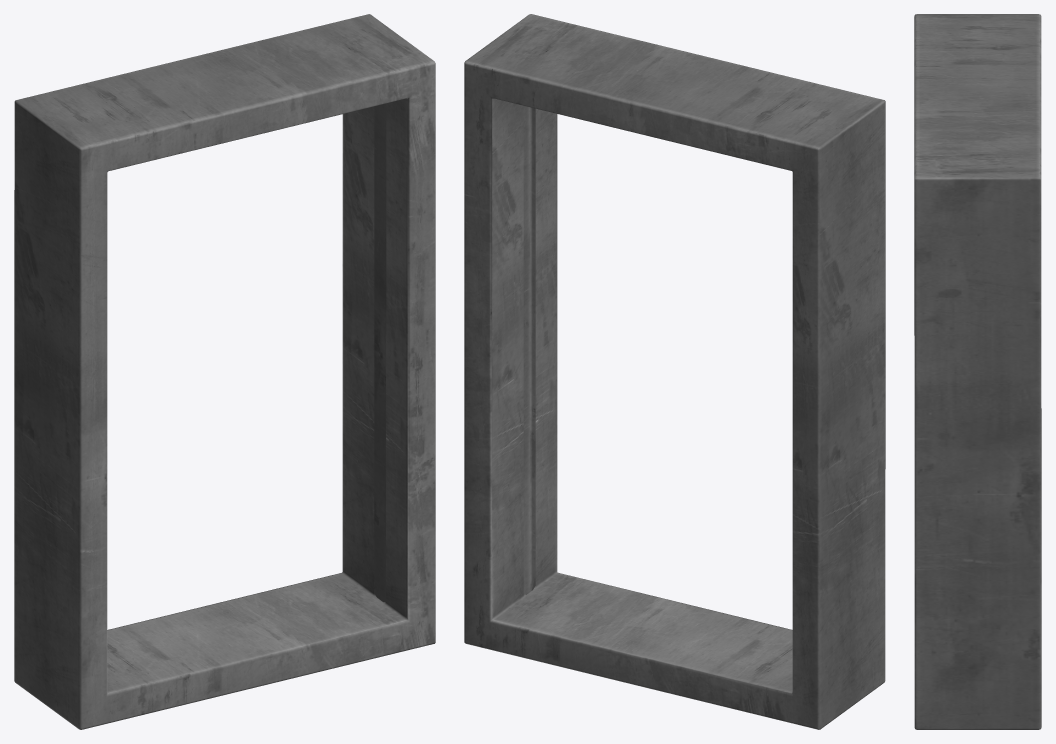
File: ele_01.fbx
The picture shows the model from 3 angles, left to right: view 1: azimuth 30°, elevation 25°; view 2: azimuth 150°, elevation 25°; view 3: azimuth 270°, elevation 25°; orthographic projection. The views are drawn at different scales.
Visible parts, largest first — view 1: ModernShaftEntrance_Mesh_LOD0; view 2: ModernShaftEntrance_Mesh_LOD0; view 3: ModernShaftEntrance_Mesh_LOD0.
Boxes of the visible parts, x1,y1,x2,y2 form: ModernShaftEntrance_Mesh_LOD0: (14,14,435,729); ModernShaftEntrance_Mesh_LOD0: (464,14,885,729); ModernShaftEntrance_Mesh_LOD0: (914,14,1041,729).
Size of the model in its own units: 230 by 360 by 75.
